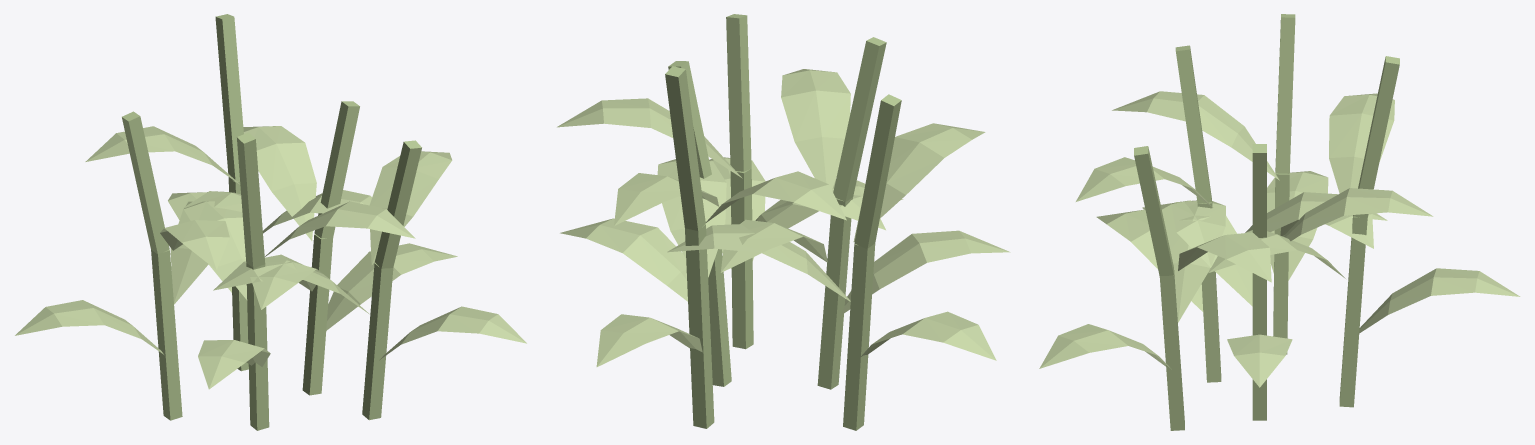
Rendered from crafted-crop-wheat-1.glb.
The picture shows the model from 3 angles, left to right: view 1: azimuth 30°, elevation 25°; view 2: azimuth 150°, elevation 25°; view 3: azimuth 270°, elevation 25°; orthographic projection. The views are drawn at different scales.
Parts seen in each view (by area): view 1: blade-2, stalk-4-0, stalk-3-0, blade, stalk-2-1, stalk-0-0, stalk-4-1, blade-11, stalk-1-1, stalk-0-1, stalk-1-0, blade-12 (+13 smaller); view 2: blade-5, stalk-2-0, blade, blade-14, stalk-4-0, stalk-1-0, stalk-2-1, blade-3, stalk-1-1, stalk-3-1, stalk-4-1, stalk-3-0 (+13 smaller); view 3: blade-8, blade-14, blade-6, blade-2, blade-10, stalk-2-0, stalk-1-1, stalk-4-1, stalk-3-0, blade-11, blade-1, stalk-2-1 (+13 smaller).
Boxes of the visible parts, bbox=[...] form: blade-2: bbox=[243, 126, 316, 240]; stalk-4-0: bbox=[151, 250, 182, 420]; stalk-3-0: bbox=[362, 263, 393, 420]; blade: bbox=[326, 243, 457, 330]; stalk-2-1: bbox=[215, 14, 243, 181]; stalk-0-0: bbox=[302, 234, 333, 395]; stalk-4-1: bbox=[122, 111, 169, 254]; blade-11: bbox=[369, 151, 452, 264]; stalk-1-1: bbox=[237, 132, 265, 268]; stalk-0-1: bbox=[314, 101, 359, 238]; stalk-1-0: bbox=[246, 263, 269, 430]; blade-12: bbox=[15, 300, 163, 354]; blade-5: bbox=[781, 69, 850, 189]; stalk-2-0: bbox=[685, 224, 714, 428]; blade: bbox=[560, 218, 687, 301]; blade-14: bbox=[853, 123, 985, 241]; stalk-4-0: bbox=[843, 243, 875, 430]; stalk-1-0: bbox=[817, 197, 852, 389]; stalk-2-1: bbox=[665, 66, 705, 231]; blade-3: bbox=[840, 230, 1010, 315]; stalk-1-1: bbox=[833, 37, 886, 201]; stalk-3-1: bbox=[726, 14, 751, 171]; stalk-4-1: bbox=[854, 94, 901, 249]; stalk-3-0: bbox=[730, 169, 753, 349]; blade-8: bbox=[1329, 93, 1394, 216]; blade-14: bbox=[1112, 91, 1279, 180]; blade-6: bbox=[1358, 268, 1520, 333]; blade-2: bbox=[1283, 188, 1433, 241]; blade-10: bbox=[1165, 200, 1225, 322]; stalk-2-0: bbox=[1339, 215, 1367, 407]; stalk-1-1: bbox=[1175, 45, 1211, 203]; stalk-4-1: bbox=[1275, 14, 1295, 173]; stalk-3-0: bbox=[1159, 270, 1184, 430]; blade-11: bbox=[1178, 232, 1271, 282]; blade-1: bbox=[1142, 200, 1252, 306]; stalk-2-1: bbox=[1353, 56, 1399, 217].
Bounding box in the file's own units: 0.4875 × 0.3728 × 0.4685.
